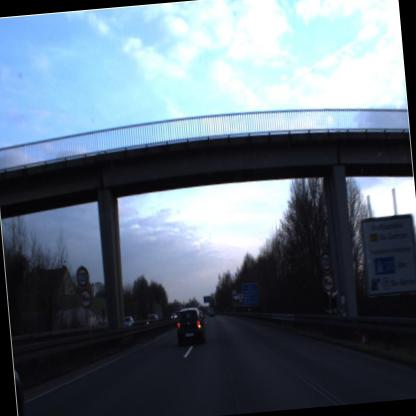prohibitory: (73, 262, 92, 288), (320, 270, 338, 296), (318, 248, 335, 274), (78, 288, 93, 312)
